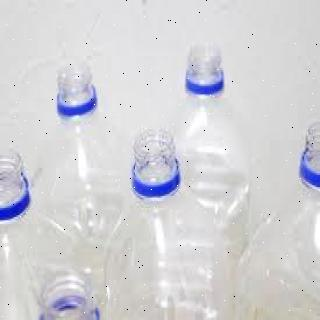Plastic-bottle: (103, 120, 232, 320), (170, 38, 269, 262), (232, 120, 320, 320), (49, 59, 135, 251), (1, 135, 88, 320)
